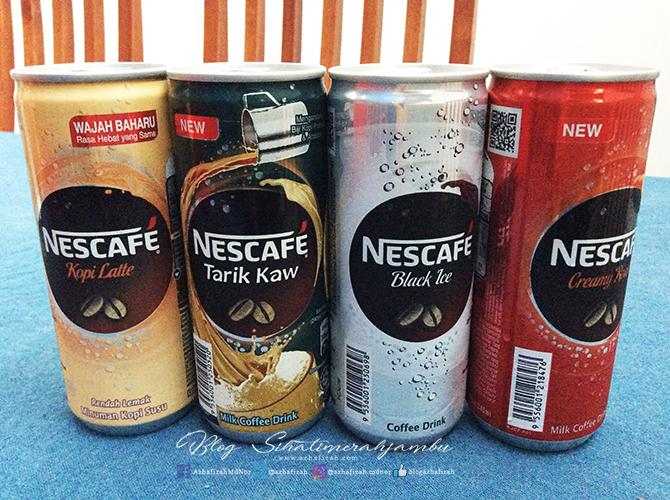metal: (478, 58, 656, 452), (12, 56, 196, 436), (166, 52, 329, 436), (330, 62, 487, 437)
